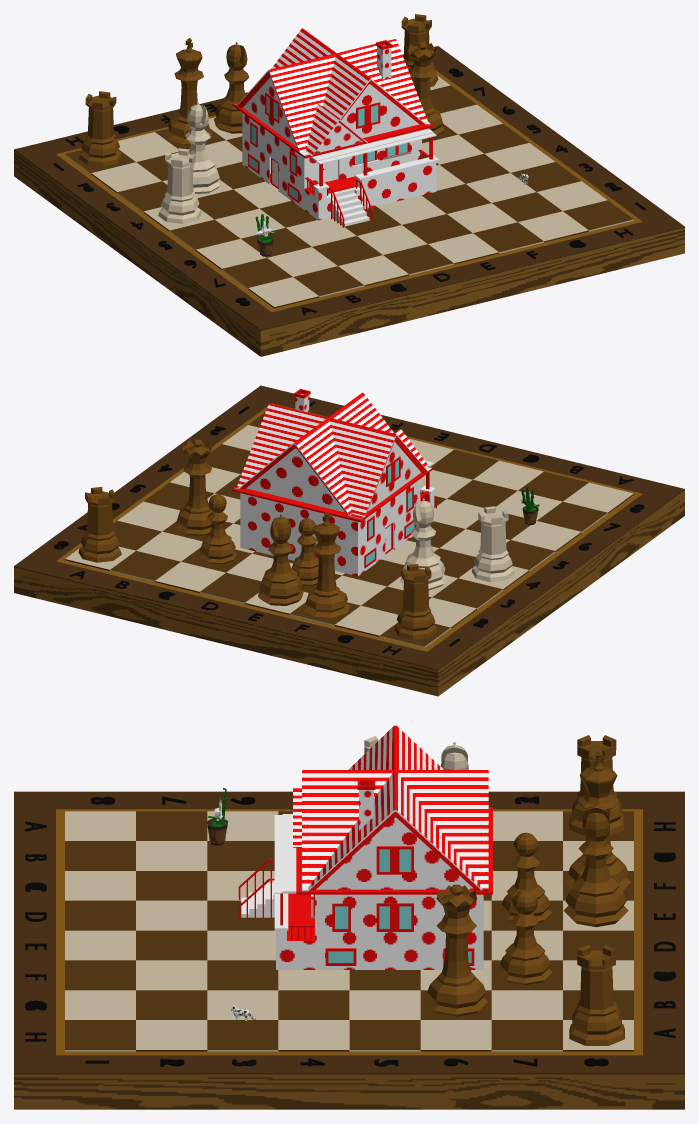
3 views of the same model, one above another, from view 1: azimuth 30°, elevation 25°; view 2: azimuth 150°, elevation 25°; view 3: azimuth 270°, elevation 25° (orthographic). The views are drawn at different scales.
Visible parts, largest first — view 1: Cube.002, Cube.196, OBJRANDOM_MONJA BLANCA; view 2: Cube.002, Cube.196, OBJRANDOM_MONJA BLANCA; view 3: Cube.002, Cube.196, OBJRANDOM_MONJA BLANCA.
Boxes of the visible parts, x1,y1,x2,y2 form: Cube.002: (14,14,684,356); Cube.196: (232,28,439,227); OBJRANDOM_MONJA BLANCA: (255,214,274,256); Cube.002: (14,385,684,696); Cube.196: (232,389,436,576); OBJRANDOM_MONJA BLANCA: (521,487,539,525); Cube.002: (14,735,684,1109); Cube.196: (238,725,492,969); OBJRANDOM_MONJA BLANCA: (207,788,227,845).
Size of the model in its own units: 3981 by 1434 by 4012.
Materials: 25 (4 with a texture image).
